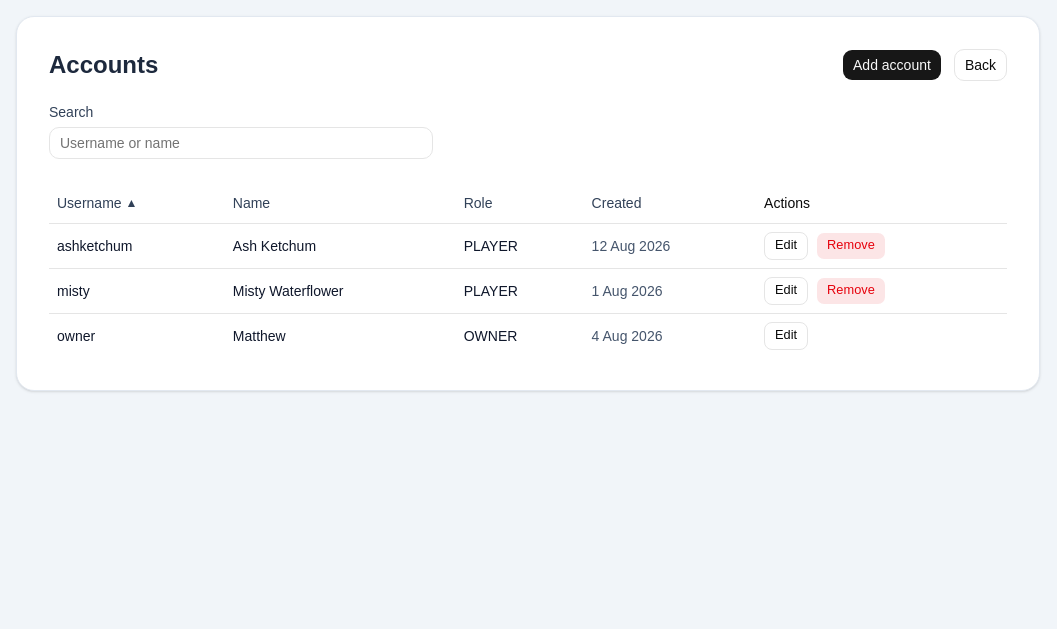
Test: AccountsPage › takes the other actions away while a form is open, so nothing typed is lost
The image size is (1057, 629).
Expected: the text "ashketchum" is shown, [49, 223, 225, 268]
Click the button with aria-label "Edit misty" at (786, 290), box [764, 276, 808, 304]
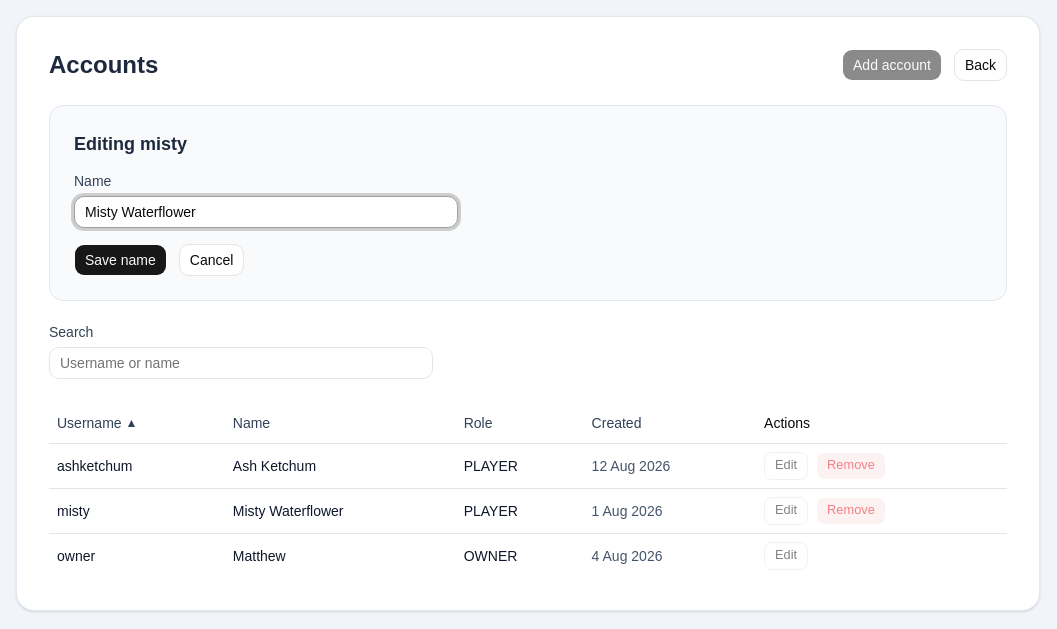
Expected: the button "Add account" is disabled, [842, 49, 942, 81]
Expected: the button with aria-label "Edit ashketchum" is disabled, [764, 452, 808, 480]
Expected: the button with aria-label "Remove ashketchum" is disabled, [816, 452, 886, 480]
Note: Cancelling gives all of them back.
Click the button "Cancel" at (212, 260), box [179, 244, 244, 276]
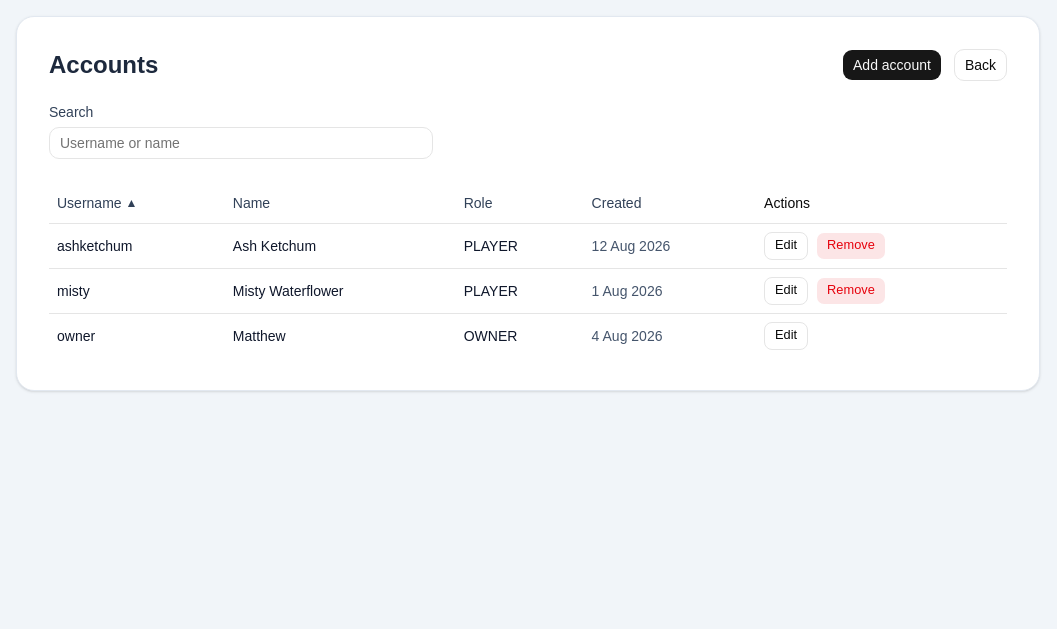
Expected: the button "Add account" is enabled, [842, 49, 942, 81]
Expected: the button with aria-label "Edit ashketchum" is enabled, [764, 232, 808, 260]
